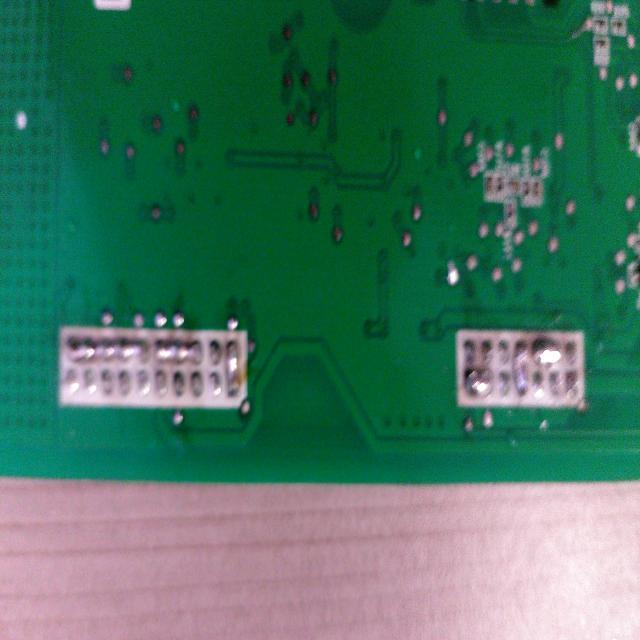Soldering bridge: (64, 332, 151, 368), (152, 332, 206, 368), (512, 333, 532, 403), (533, 334, 568, 370), (222, 338, 242, 400), (463, 370, 494, 399)
